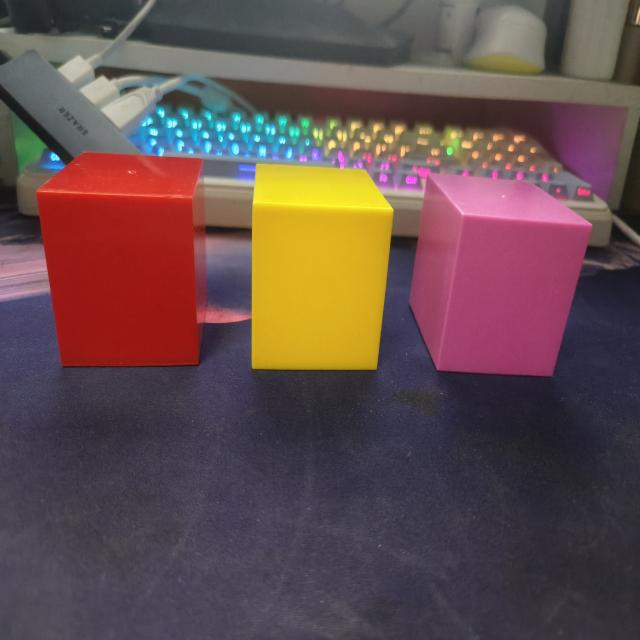pink: (409, 173, 592, 379)
red: (35, 154, 202, 370)
yellow: (249, 163, 394, 374)
